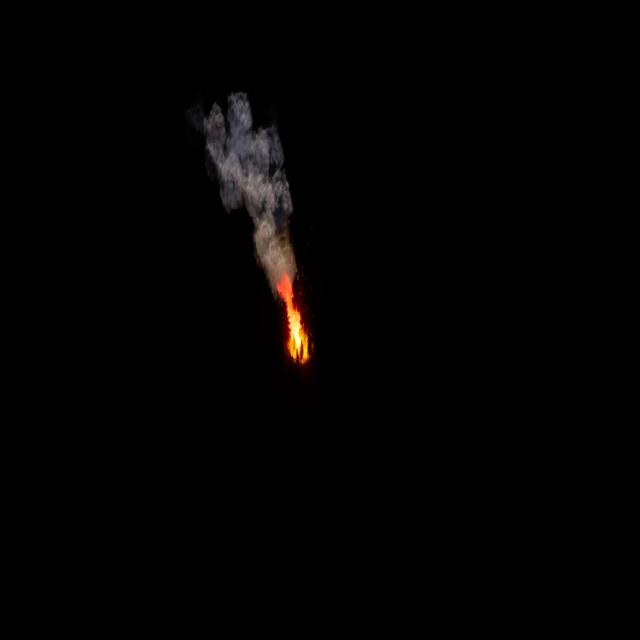fire: (277, 270, 311, 361)
smoke: (201, 87, 298, 298)
